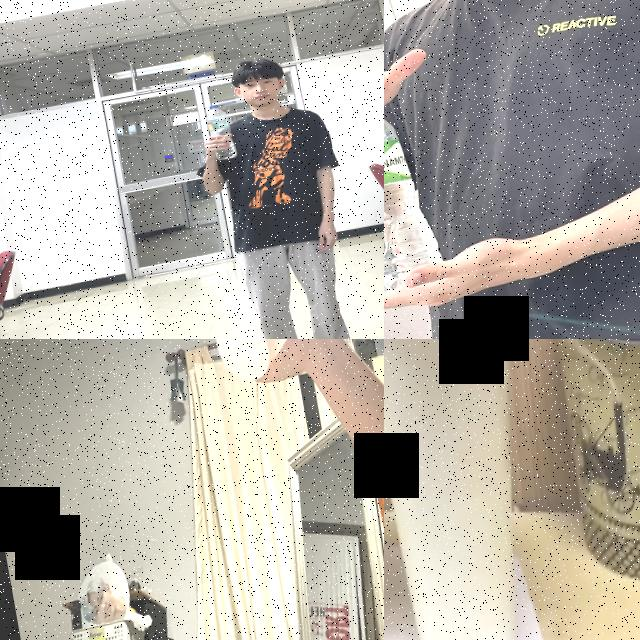bottle: (384, 83, 447, 297), (202, 100, 240, 163)
cup: (384, 339, 585, 640), (531, 339, 640, 594), (197, 339, 336, 383)
